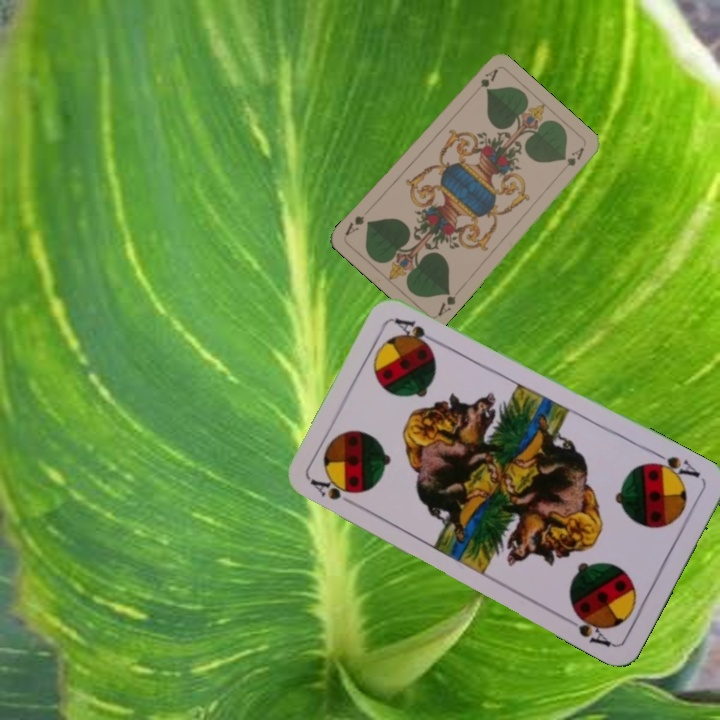GA: (433, 285, 463, 319), (476, 65, 500, 90)
SA: (645, 447, 703, 485), (305, 472, 361, 510)
